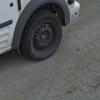Car: (2, 2, 84, 69)
